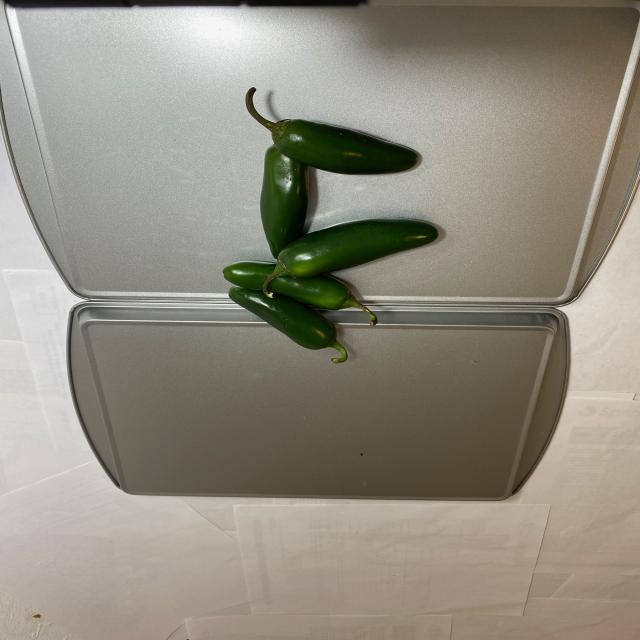chilli: (230, 99, 442, 368)
